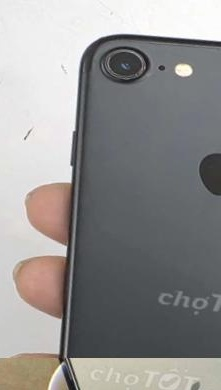scratch: (92, 38, 154, 87)
